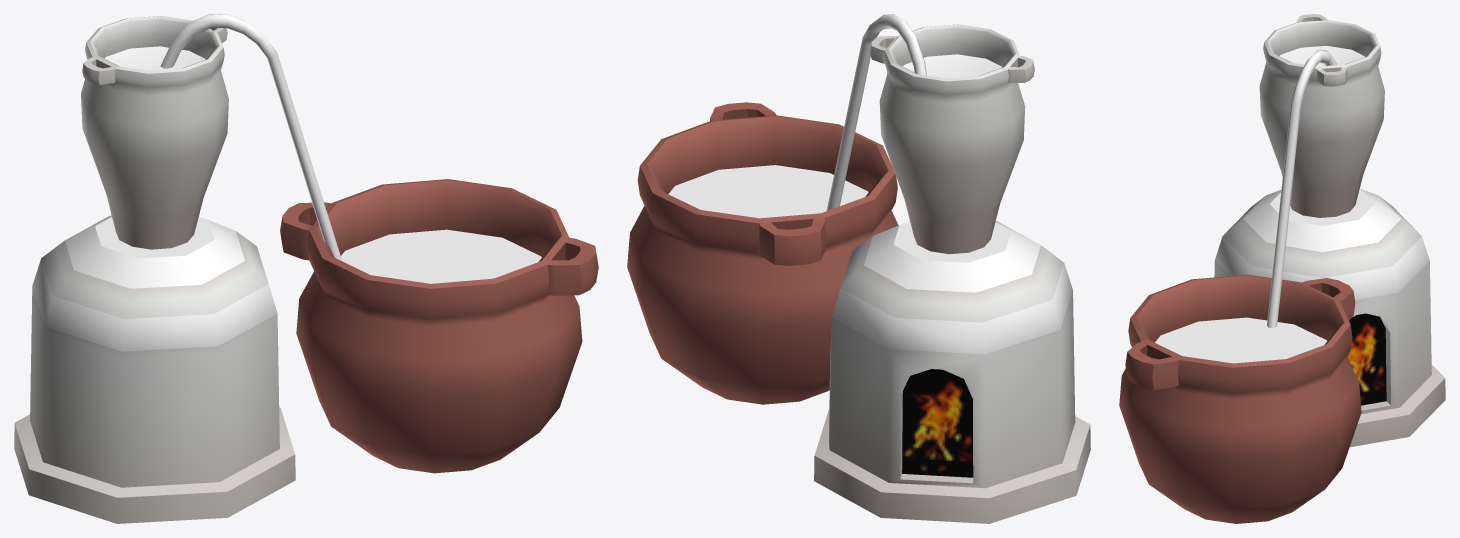
File: Alchemic_samogon_machine.fbx
3 views of the same model, side by side, from view 1: azimuth 30°, elevation 25°; view 2: azimuth 150°, elevation 25°; view 3: azimuth 270°, elevation 25° (orthographic). The views are drawn at different scales.
Parts seen in each view (by area): view 1: Alchemic_samogon_machine; view 2: Alchemic_samogon_machine; view 3: Alchemic_samogon_machine.
Part boxes in pixels (x1=…): Alchemic_samogon_machine: x1=14, y1=14, x2=598, y2=523; Alchemic_samogon_machine: x1=627, y1=14, x2=1090, y2=523; Alchemic_samogon_machine: x1=1119, y1=14, x2=1445, y2=523.
Size of the model in its own units: 2.75 by 2.37 by 1.89.
Materials: 1 (1 with a texture image).
